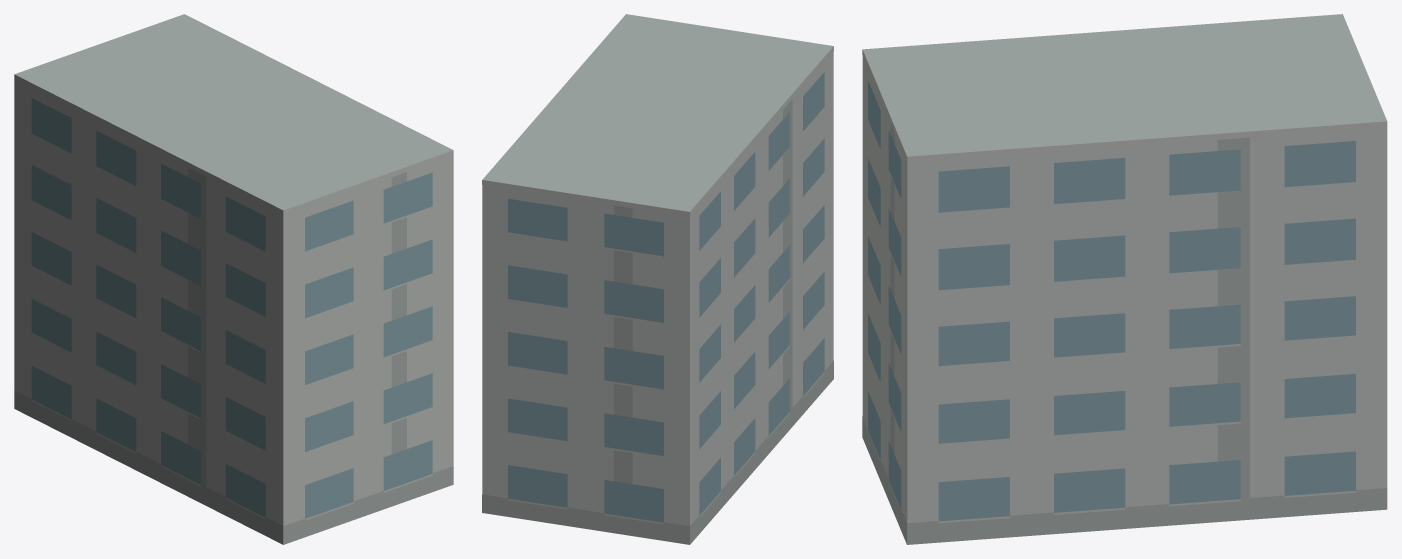
The model's file is survey-upis-33001963.glb.
The picture shows the model from 3 angles, left to right: view 1: azimuth 30°, elevation 25°; view 2: azimuth 150°, elevation 25°; view 3: azimuth 270°, elevation 25°; orthographic projection. The views are drawn at different scales.
Visible parts, largest first — view 1: survey-upis-33001963.tmp; view 2: survey-upis-33001963.tmp; view 3: survey-upis-33001963.tmp.
Boxes of the visible parts, <box> form: survey-upis-33001963.tmp: <box>14,14,453,544</box>; survey-upis-33001963.tmp: <box>482,14,833,544</box>; survey-upis-33001963.tmp: <box>862,14,1387,544</box>.
Size of the model in its own units: 12.3 by 15.6 by 19.12.
